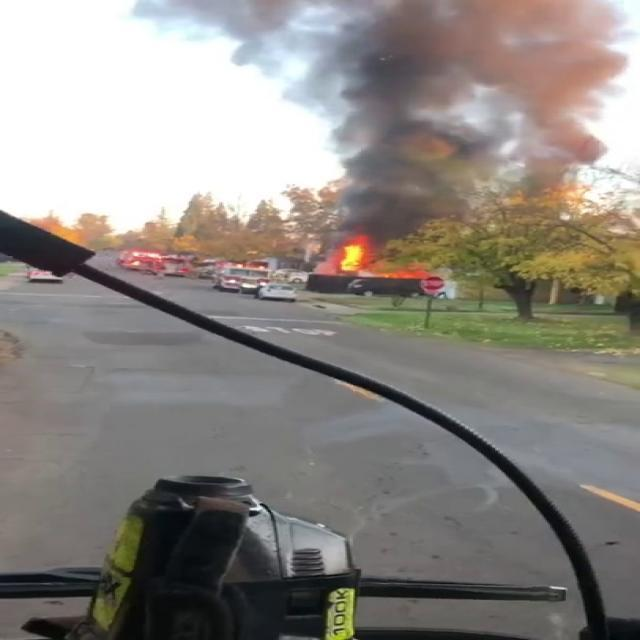Fire: (330, 236, 373, 276)
Smoke: (148, 0, 640, 226)
